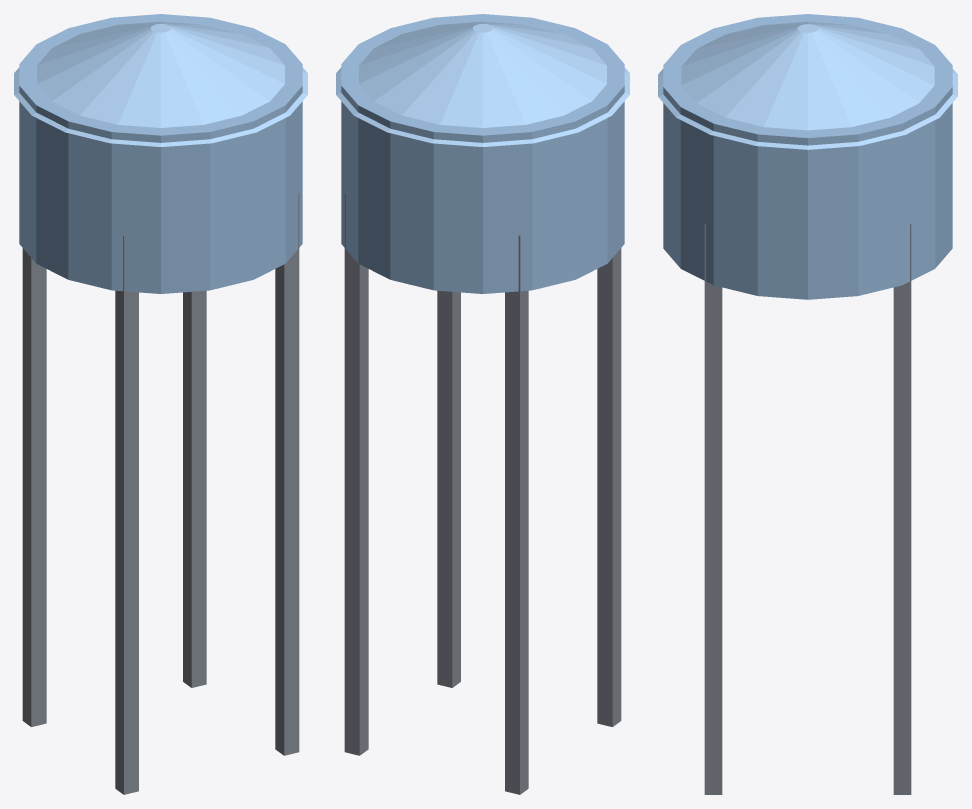
The model's file is water_tower.dae.
3 renders of one model, left to right at view 1: azimuth 30°, elevation 25°; view 2: azimuth 150°, elevation 25°; view 3: azimuth 270°, elevation 25°, orthographic. The views are drawn at different scales.
Visible parts, largest first — view 1: tank, roof, leg_fr, leg_rr, leg_rl, leg_fl; view 2: tank, roof, leg_fl, leg_rl, leg_rr, leg_fr; view 3: tank, roof, leg_fl, leg_fr.
Part boxes in pixels (x1=…): tank: x1=19, y1=14, x2=302, y2=293; roof: x1=14, y1=21, x2=307, y2=146; leg_fr: x1=275, y1=193, x2=299, y2=755; leg_rr: x1=115, y1=235, x2=138, y2=794; leg_rl: x1=22, y1=248, x2=46, y2=726; leg_fl: x1=183, y1=290, x2=206, y2=687; tank: x1=341, y1=14, x2=624, y2=293; roof: x1=336, y1=21, x2=629, y2=146; leg_fl: x1=344, y1=193, x2=368, y2=755; leg_rl: x1=505, y1=235, x2=528, y2=794; leg_rr: x1=597, y1=248, x2=621, y2=726; leg_fr: x1=437, y1=290, x2=460, y2=687; tank: x1=663, y1=14, x2=952, y2=299; roof: x1=658, y1=21, x2=957, y2=149; leg_fl: x1=893, y1=224, x2=911, y2=794; leg_fr: x1=704, y1=224, x2=722, y2=794.
Bounding box in the file's own units: 5.8 × 5.71 × 15.2.
